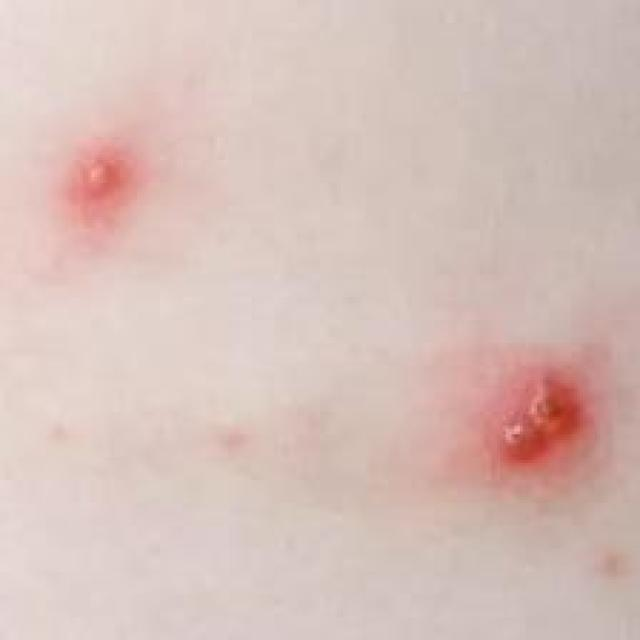others: (11, 0, 635, 634)
